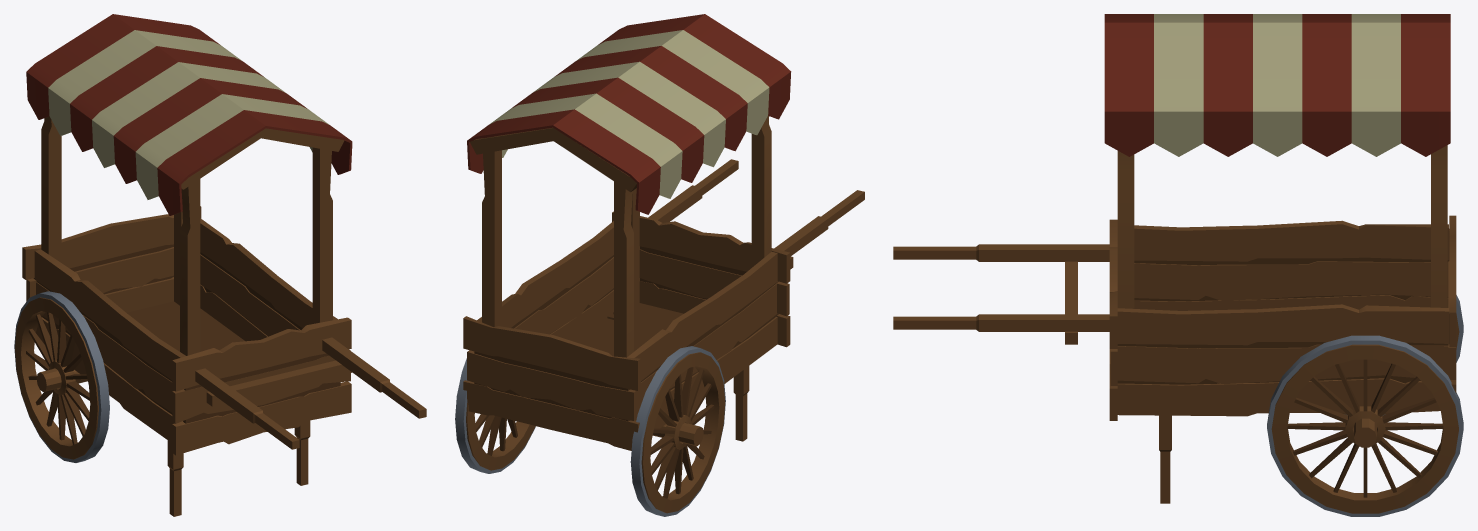
Rendered from Cart.glb.
3 renders of one model, left to right at view 1: azimuth 30°, elevation 25°; view 2: azimuth 150°, elevation 25°; view 3: azimuth 270°, elevation 25°, orthographic. The views are drawn at different scales.
Parts seen in each view (by area): view 1: Cart; view 2: Cart; view 3: Cart.
Part boxes in pixels (x1,y1,x2,y2): Cart: (14,14,426,516); Cart: (455,14,864,516); Cart: (893,14,1463,516).
Size of the model in its own units: 0.462 by 0.7961 by 0.9274.
